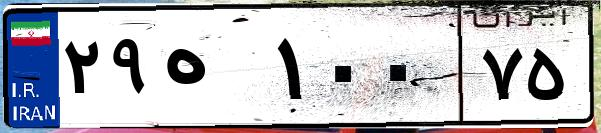0: (385, 28, 445, 110), (330, 28, 385, 110)
1: (270, 28, 330, 110)
2: (57, 26, 110, 100)
5: (525, 38, 570, 115)
7: (475, 38, 525, 113)
9: (110, 28, 158, 98)
ه: (158, 20, 270, 120)
